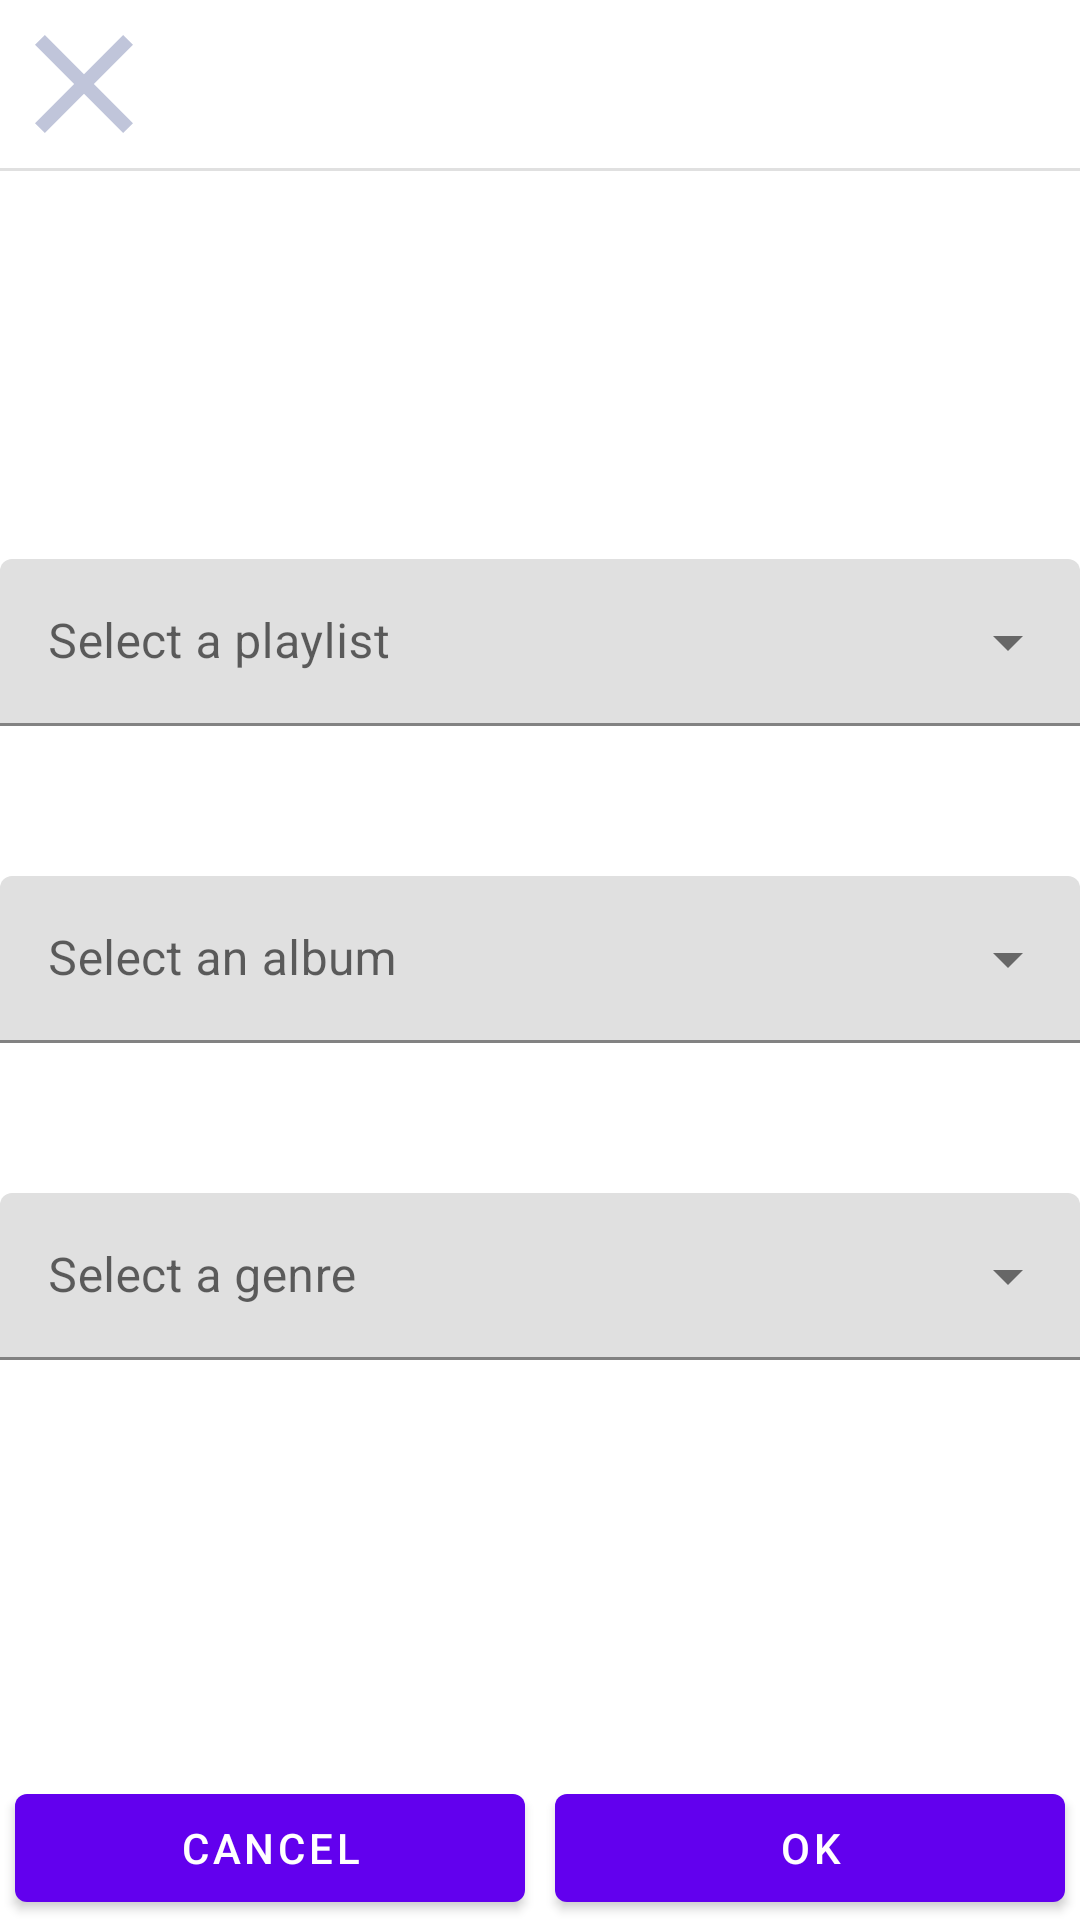

Screen size 1080w x 1920h. Icon name, then its box in pixels as BBox(x1, y1, x2, y2):
close: BBox(35, 35, 133, 133)
